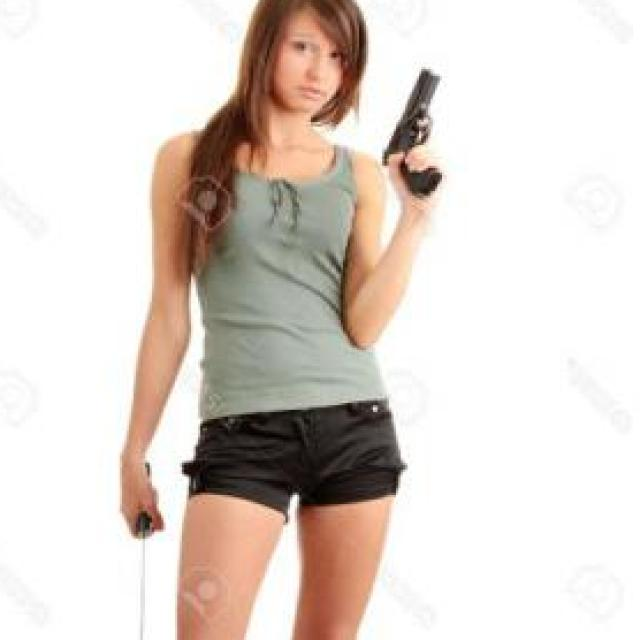pistol: (376, 64, 456, 194)
